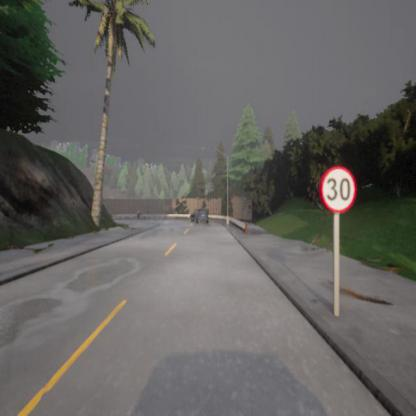traffic_sign_30: (321, 166, 356, 210)
vehicle: (191, 208, 209, 224)
